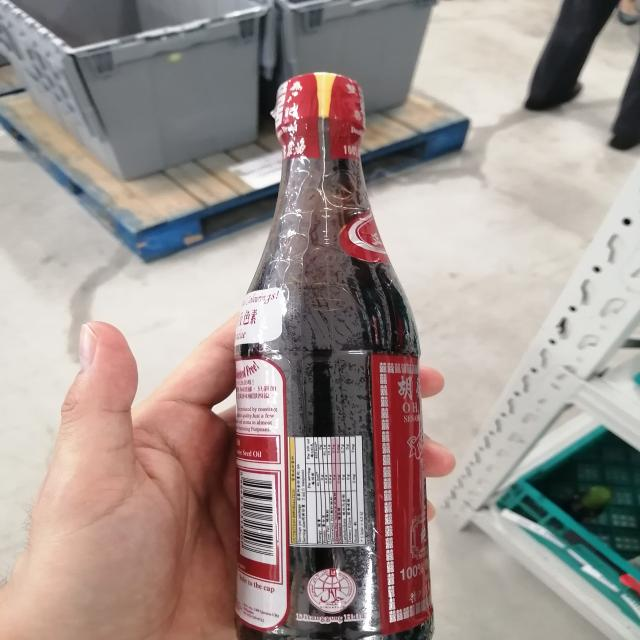object_name: (226, 76, 433, 640)
